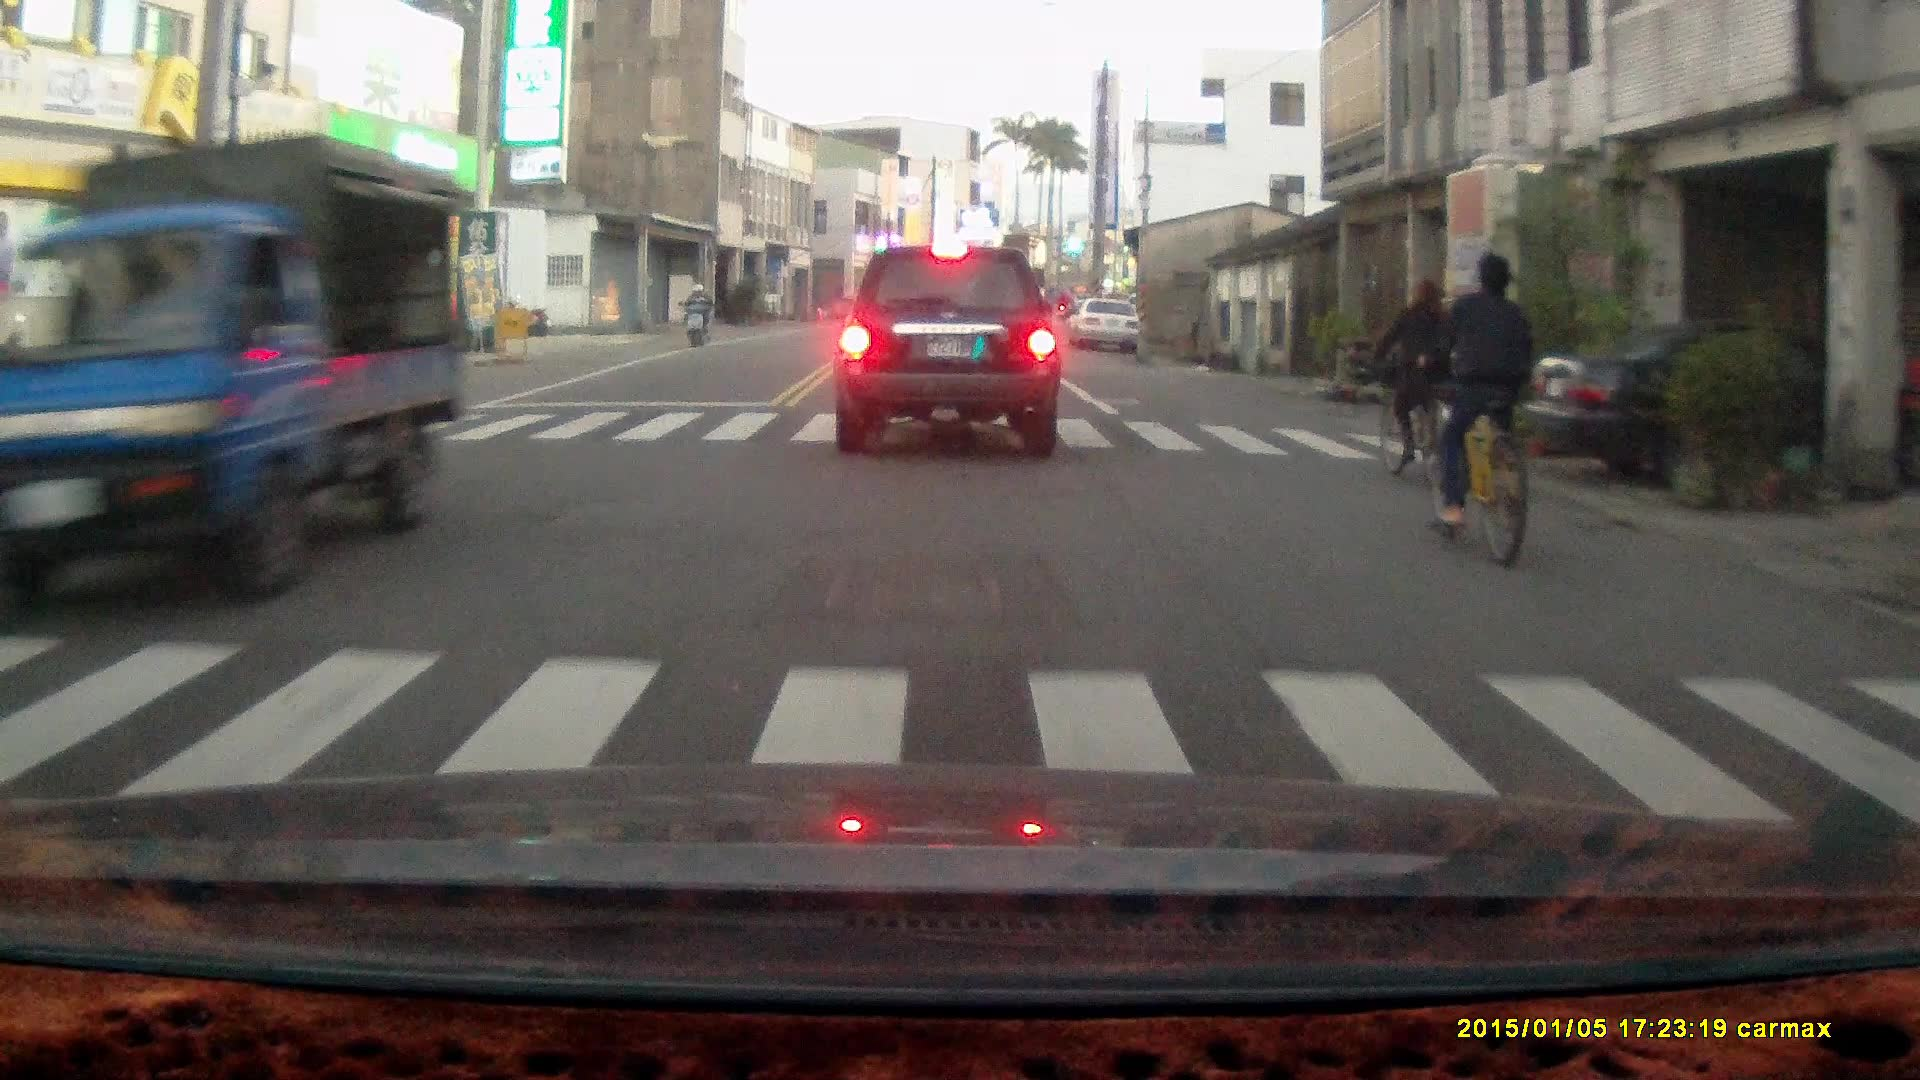rider: (1411, 253, 1534, 572), (1370, 278, 1455, 494), (681, 279, 711, 350)
vehicle: (1, 127, 462, 627), (1519, 315, 1920, 500), (830, 245, 1064, 459), (1068, 298, 1144, 355)
